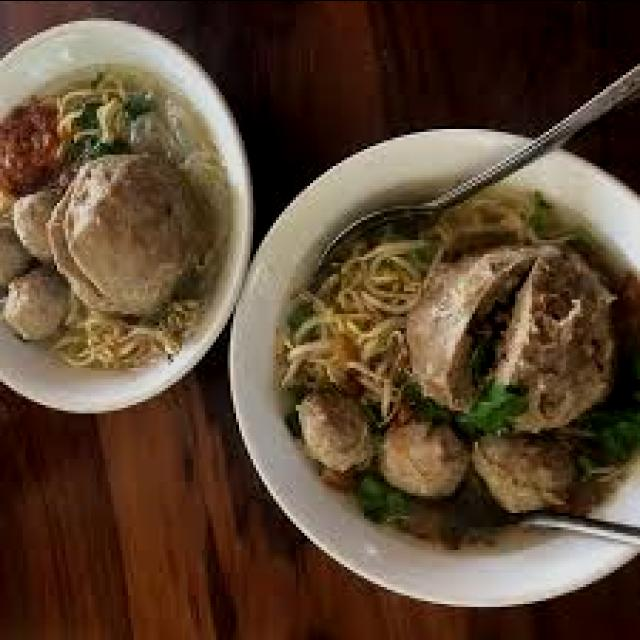bakso: (273, 179, 640, 552), (0, 63, 233, 367)
